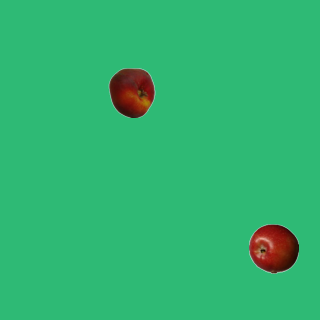Apple Braeburn: (248, 223, 298, 273)
Nectarine Flat: (106, 67, 156, 117)
